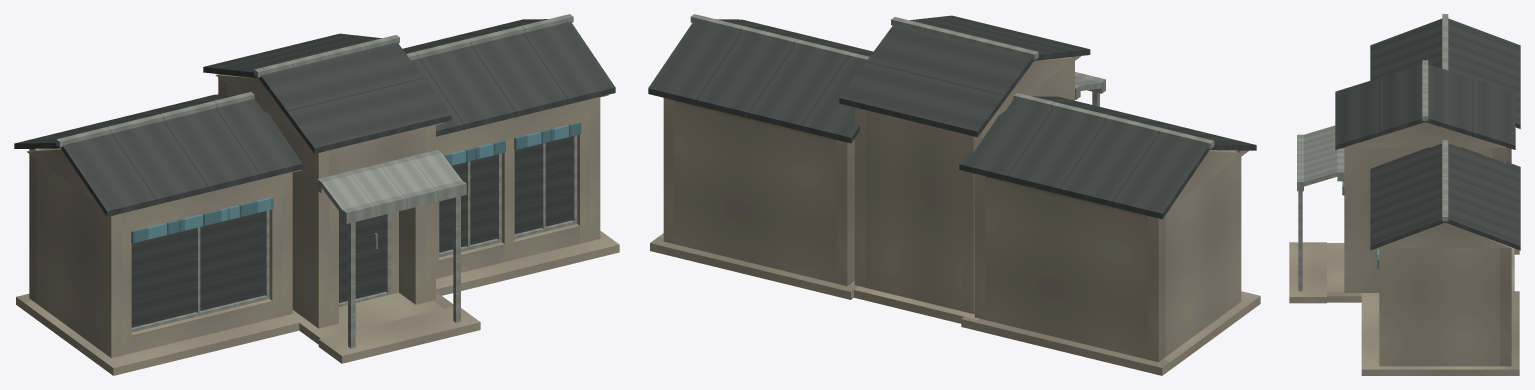
The picture shows the model from 3 angles, left to right: view 1: azimuth 30°, elevation 25°; view 2: azimuth 150°, elevation 25°; view 3: azimuth 270°, elevation 25°; orthographic projection. The views are drawn at different scales.
Visible parts, largest first — view 1: caracas; view 2: caracas; view 3: caracas.
Boxes of the visible parts, <box> form: caracas: <box>14,14,619,375</box>; caracas: <box>648,14,1260,375</box>; caracas: <box>1289,14,1520,375</box>.
Size of the model in its own units: 8.58 by 3.7 by 4.13.
Materials: 1 (1 with a texture image).
